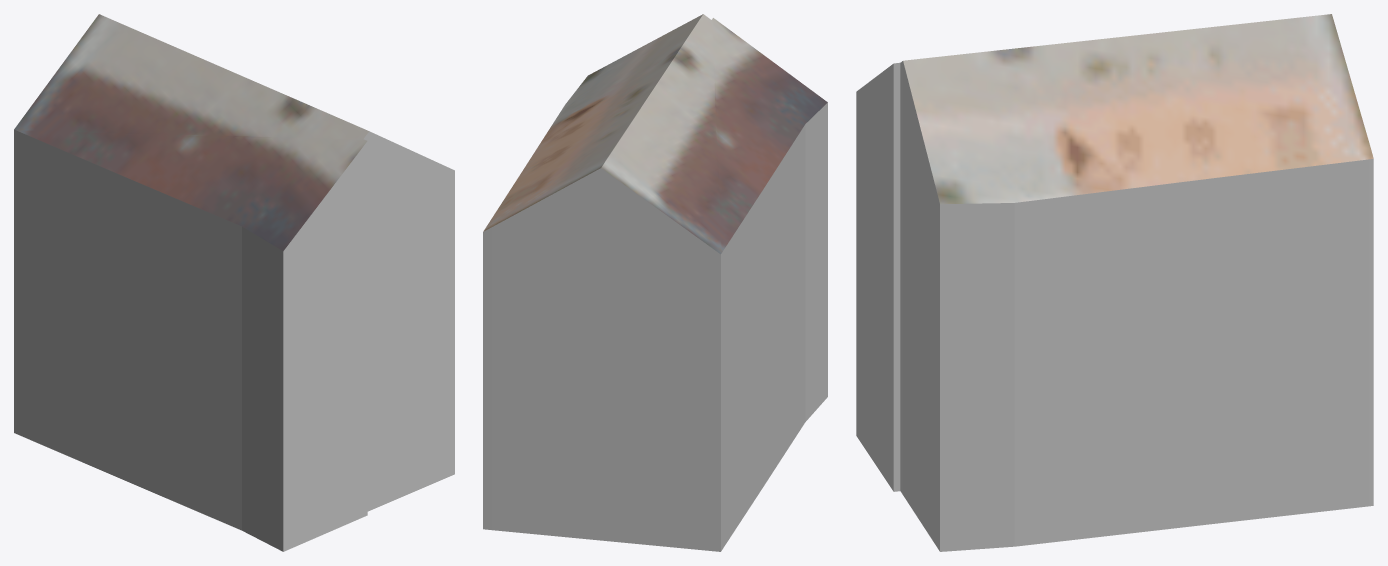
Rendered from DEBW_0010007Tx6B.gltf.
The picture shows the model from 3 angles, left to right: view 1: azimuth 30°, elevation 25°; view 2: azimuth 150°, elevation 25°; view 3: azimuth 270°, elevation 25°; orthographic projection. The views are drawn at different scales.
Visible parts, largest first — view 1: Z_UP; view 2: Z_UP; view 3: Z_UP.
Boxes of the visible parts, x1,y1,x2,y2 form: Z_UP: (14,14,454,551); Z_UP: (483,14,827,551); Z_UP: (856,14,1373,551).
Size of the model in its own units: 12.49 by 15.73 by 16.97.
2 materials, 1 textured.
